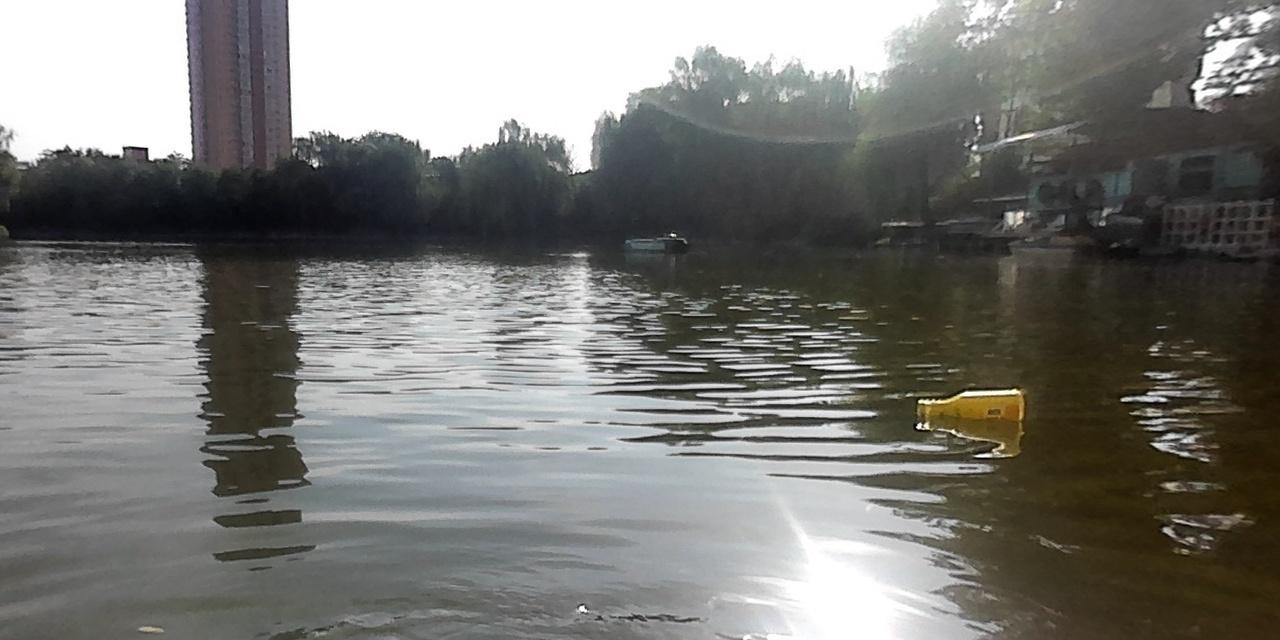bottle: (916, 388, 1022, 425)
